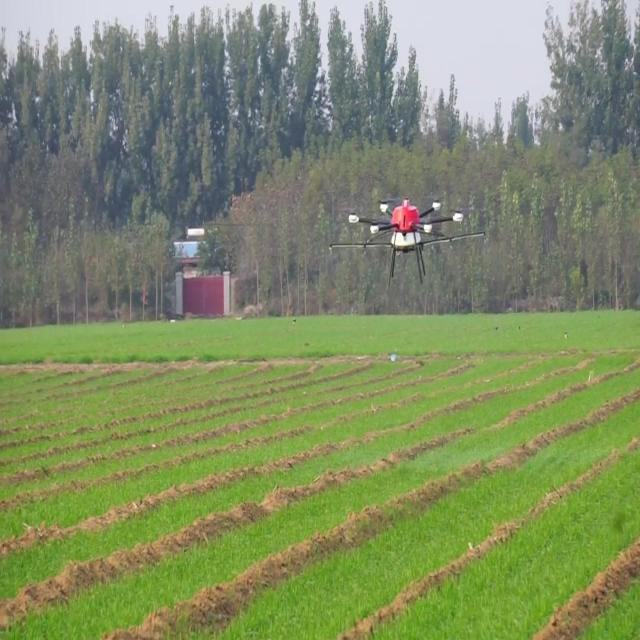drone: (331, 196, 485, 287)
